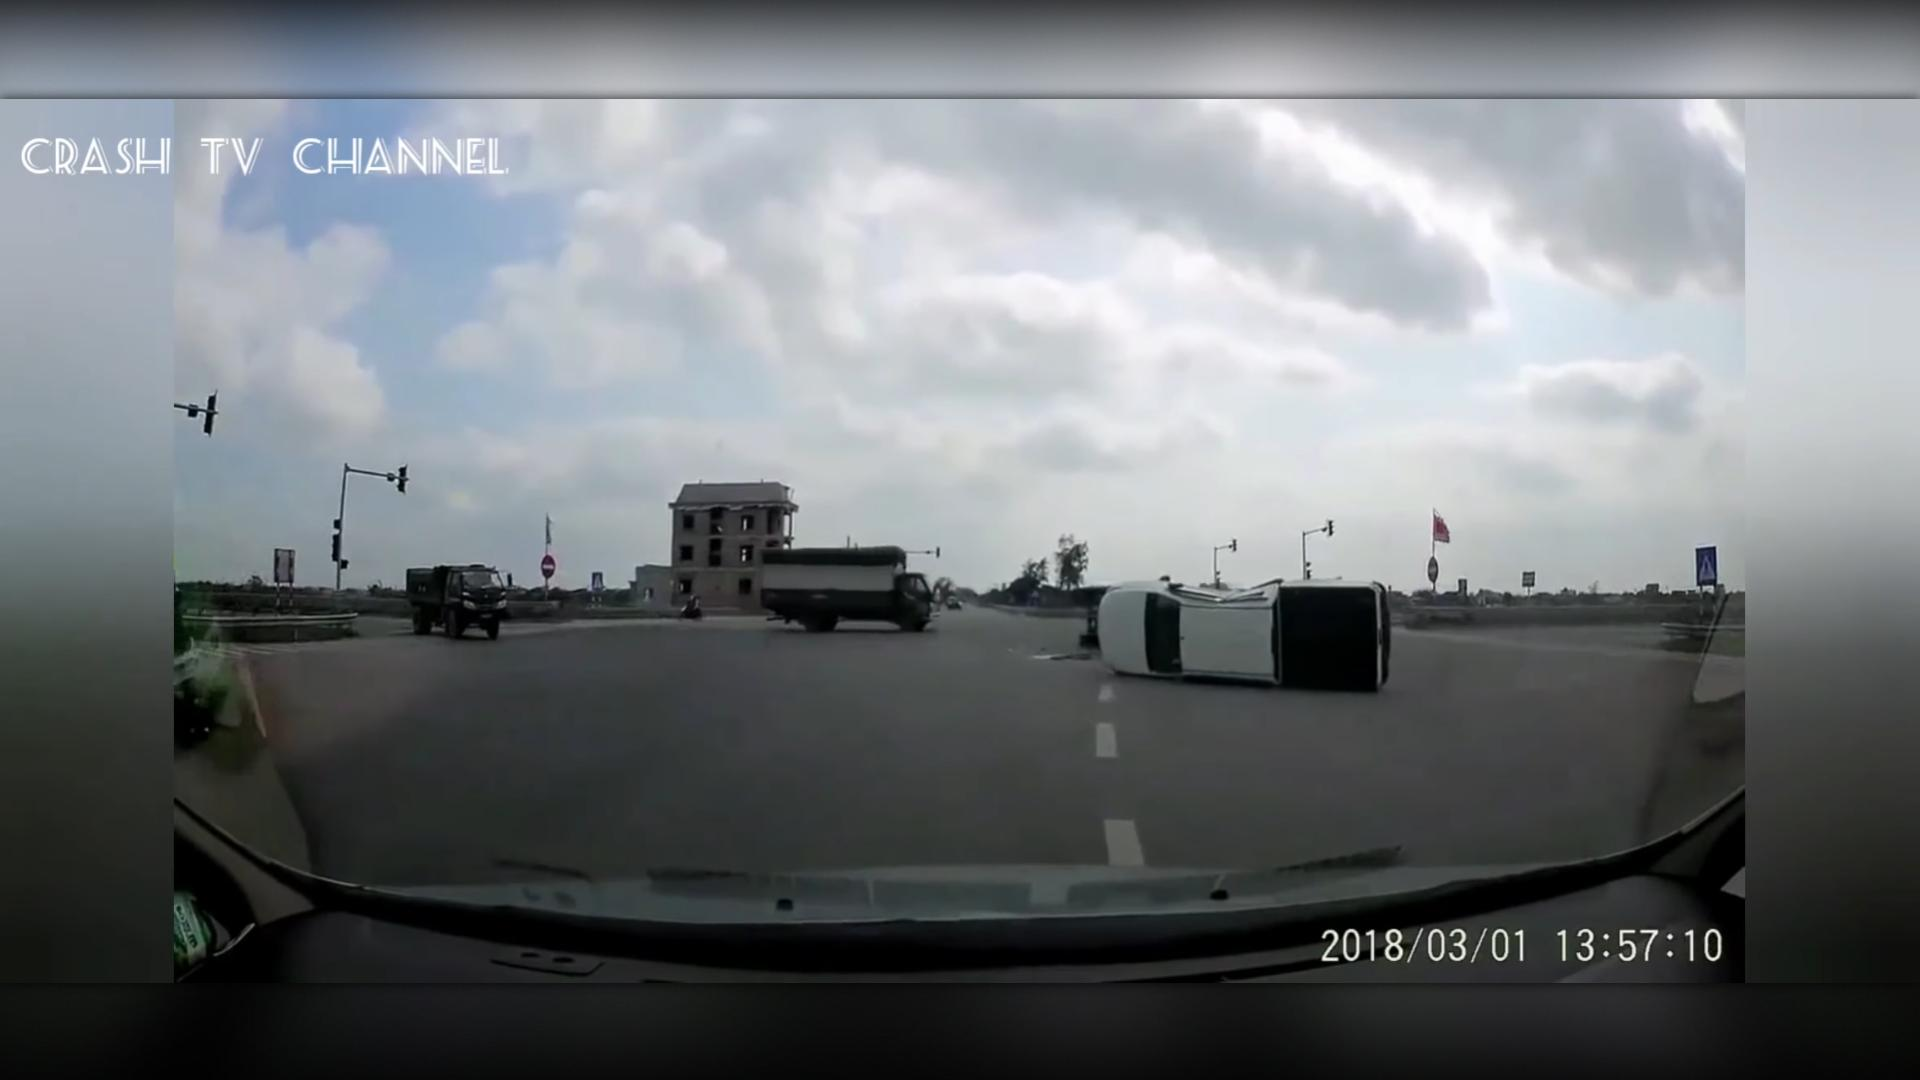accident: (1084, 575, 1408, 709)
truck: (749, 541, 943, 636), (394, 564, 510, 638)
